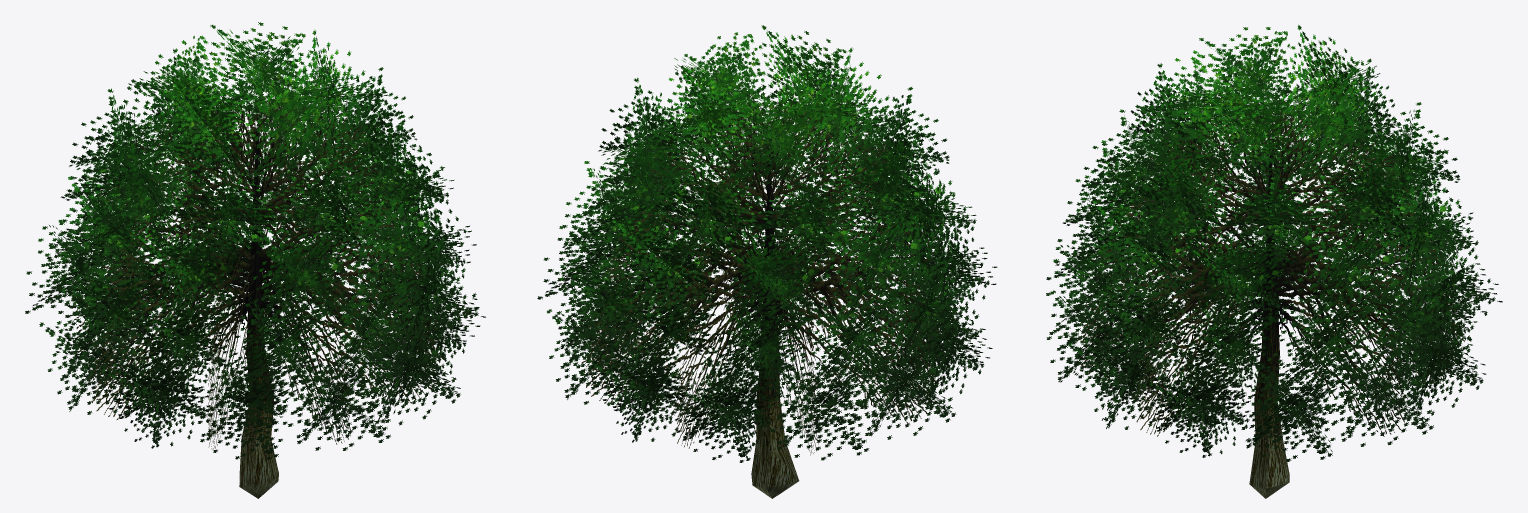
The model's file is zomereik_2.fbx.
3 views of the same model, side by side, from view 1: azimuth 30°, elevation 25°; view 2: azimuth 150°, elevation 25°; view 3: azimuth 270°, elevation 25° (orthographic).
Parts seen in each view (by area): view 1: zomereik_2; view 2: zomereik_2; view 3: zomereik_2.
Part boxes in pixels (x1=…): zomereik_2: x1=25, y1=22, x2=485, y2=498; zomereik_2: x1=537, y1=25, x2=997, y2=498; zomereik_2: x1=1046, y1=24, x2=1502, y2=498.
Bounding box in the file's own units: 1976 × 2017 × 1965.
